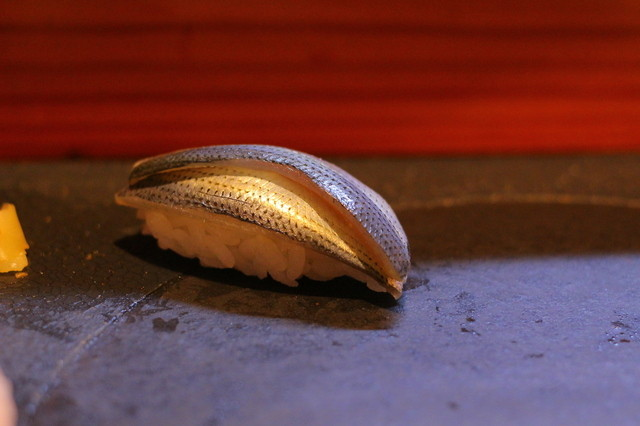spotted-shad: (112, 140, 421, 301)
